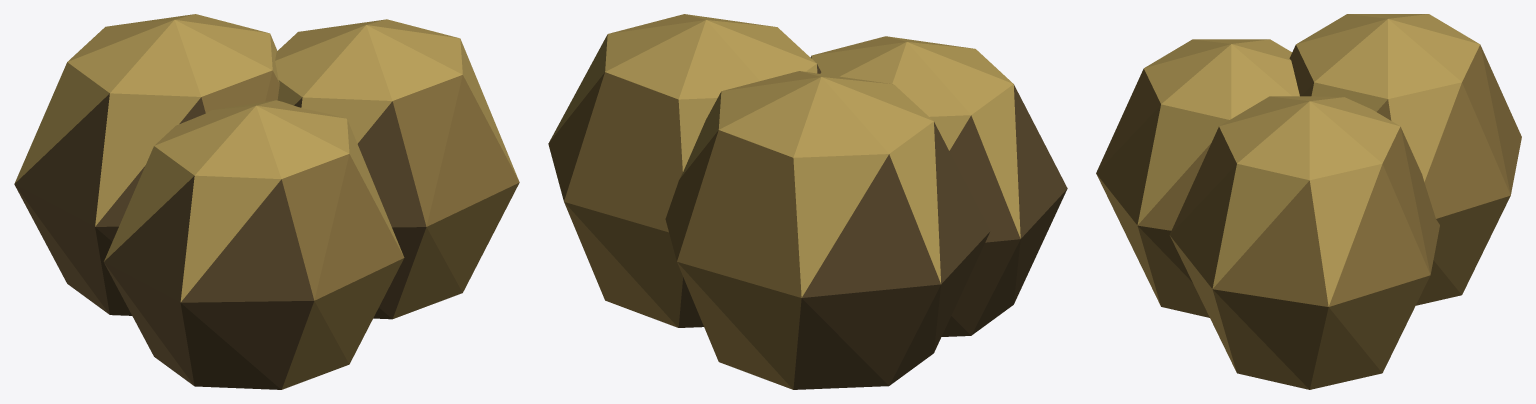
Rendered from TW_SHRUB_ROUND_A_LOD0.glb.
3 views of the same model, side by side, from view 1: azimuth 30°, elevation 25°; view 2: azimuth 150°, elevation 25°; view 3: azimuth 270°, elevation 25° (orthographic). The views are drawn at different scales.
Visible parts, largest first — view 1: TW_SHRUB_ROUND_A_LOD0; view 2: TW_SHRUB_ROUND_A_LOD0; view 3: TW_SHRUB_ROUND_A_LOD0.
Boxes of the visible parts, bbox=[...] form: TW_SHRUB_ROUND_A_LOD0: bbox=[14, 14, 519, 389]; TW_SHRUB_ROUND_A_LOD0: bbox=[548, 14, 1067, 389]; TW_SHRUB_ROUND_A_LOD0: bbox=[1096, 14, 1521, 389].
Size of the model in its own units: 0.95 by 0.65 by 0.85.
1 material, 1 textured.
